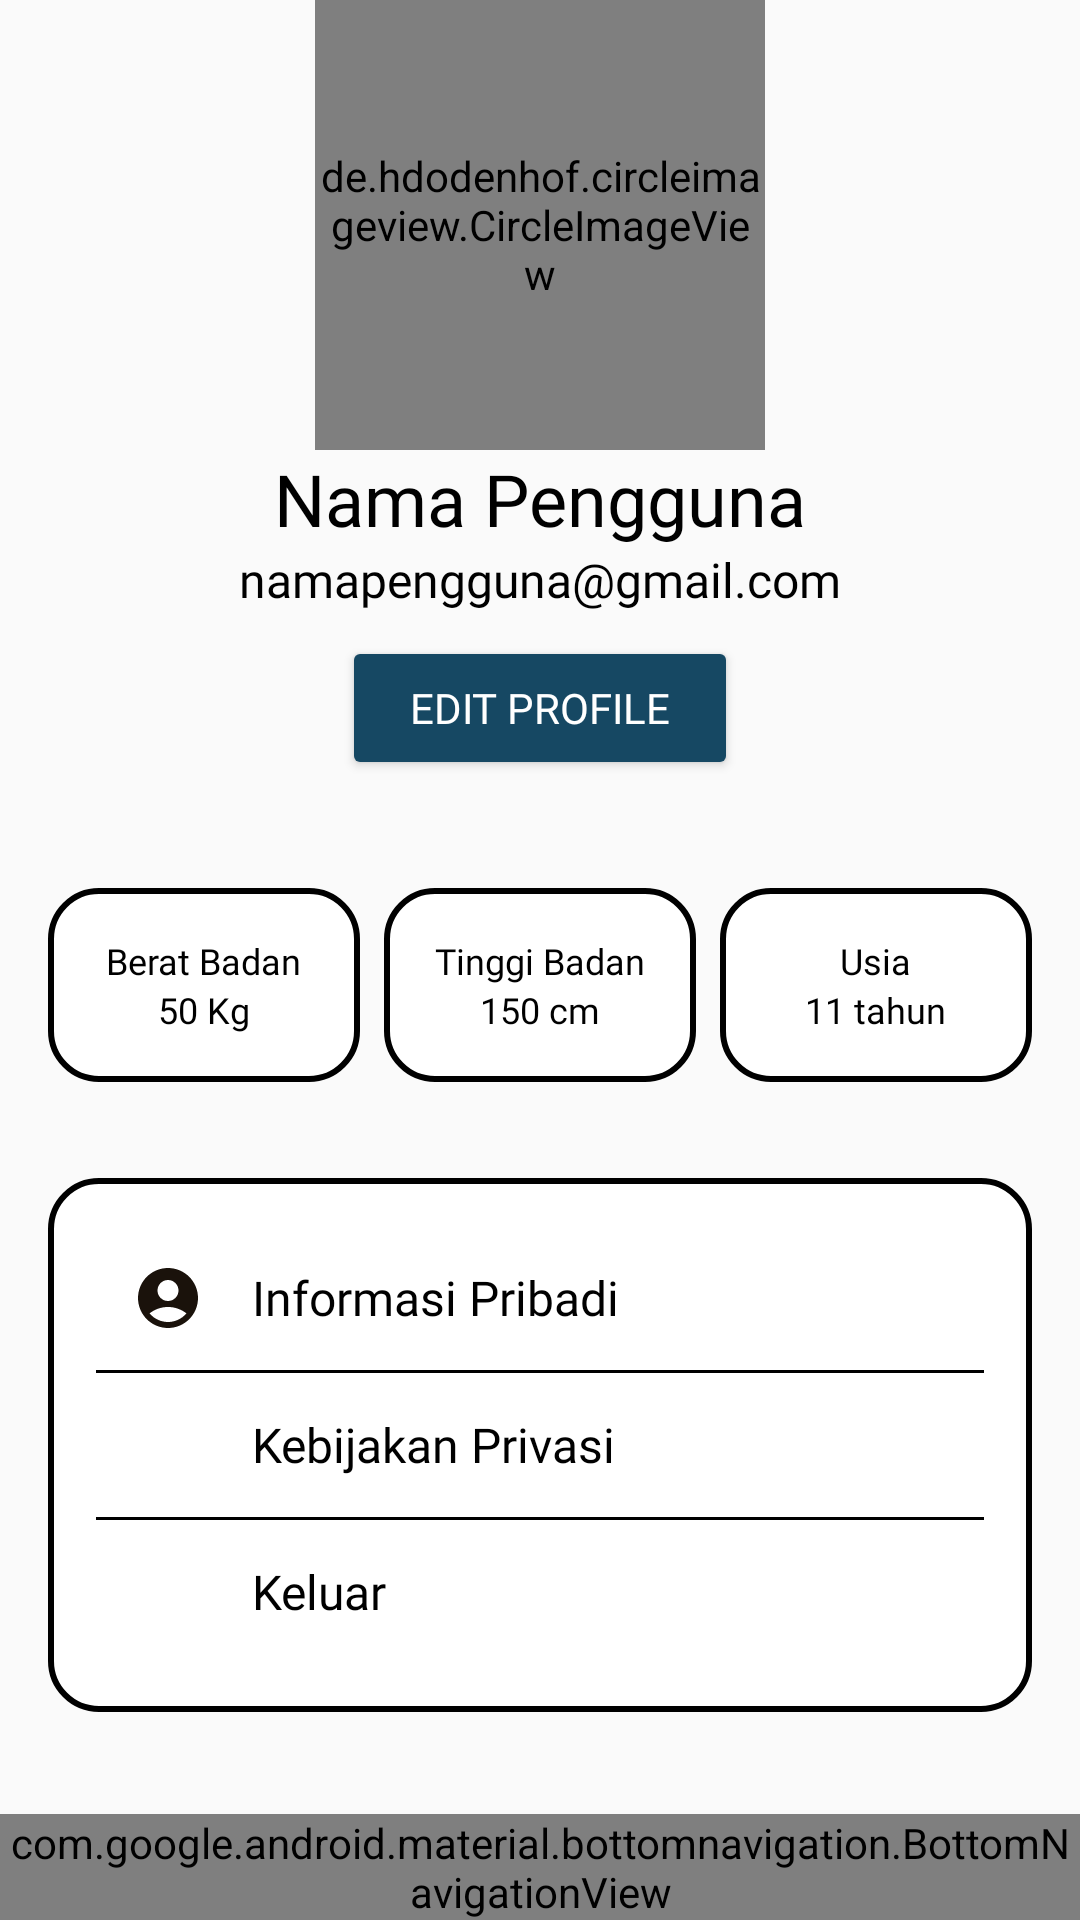

Screen size 1080×1920. Icon name, then its center in pixels as point (x, y):
account: point (168, 1298)
